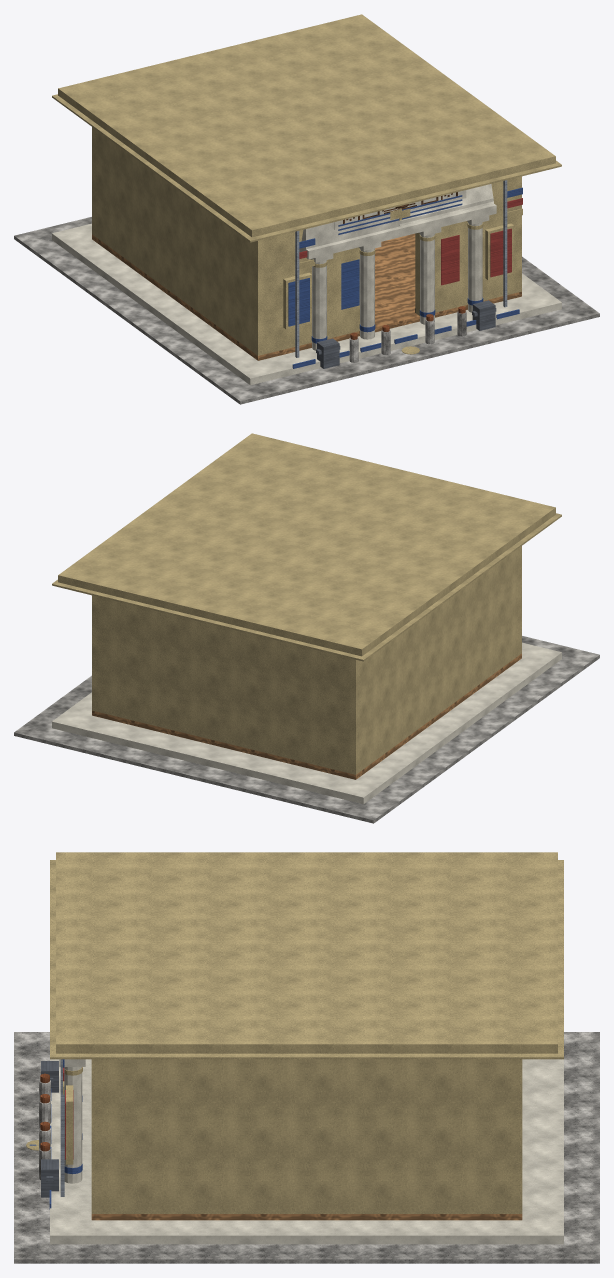
The model's file is museum_hall.fbx.
3 renders of one model, top to bottom at view 1: azimuth 30°, elevation 25°; view 2: azimuth 150°, elevation 25°; view 3: azimuth 270°, elevation 25°, orthographic. The views are drawn at different scales.
Parts seen in each view (by area): view 1: museum_hall; view 2: museum_hall; view 3: museum_hall.
Part boxes in pixels (x1,y1,x2,y2): museum_hall: (14, 14, 599, 404); museum_hall: (14, 433, 599, 823); museum_hall: (14, 852, 599, 1263).
Size of the model in its own units: 900 by 372 by 980.
